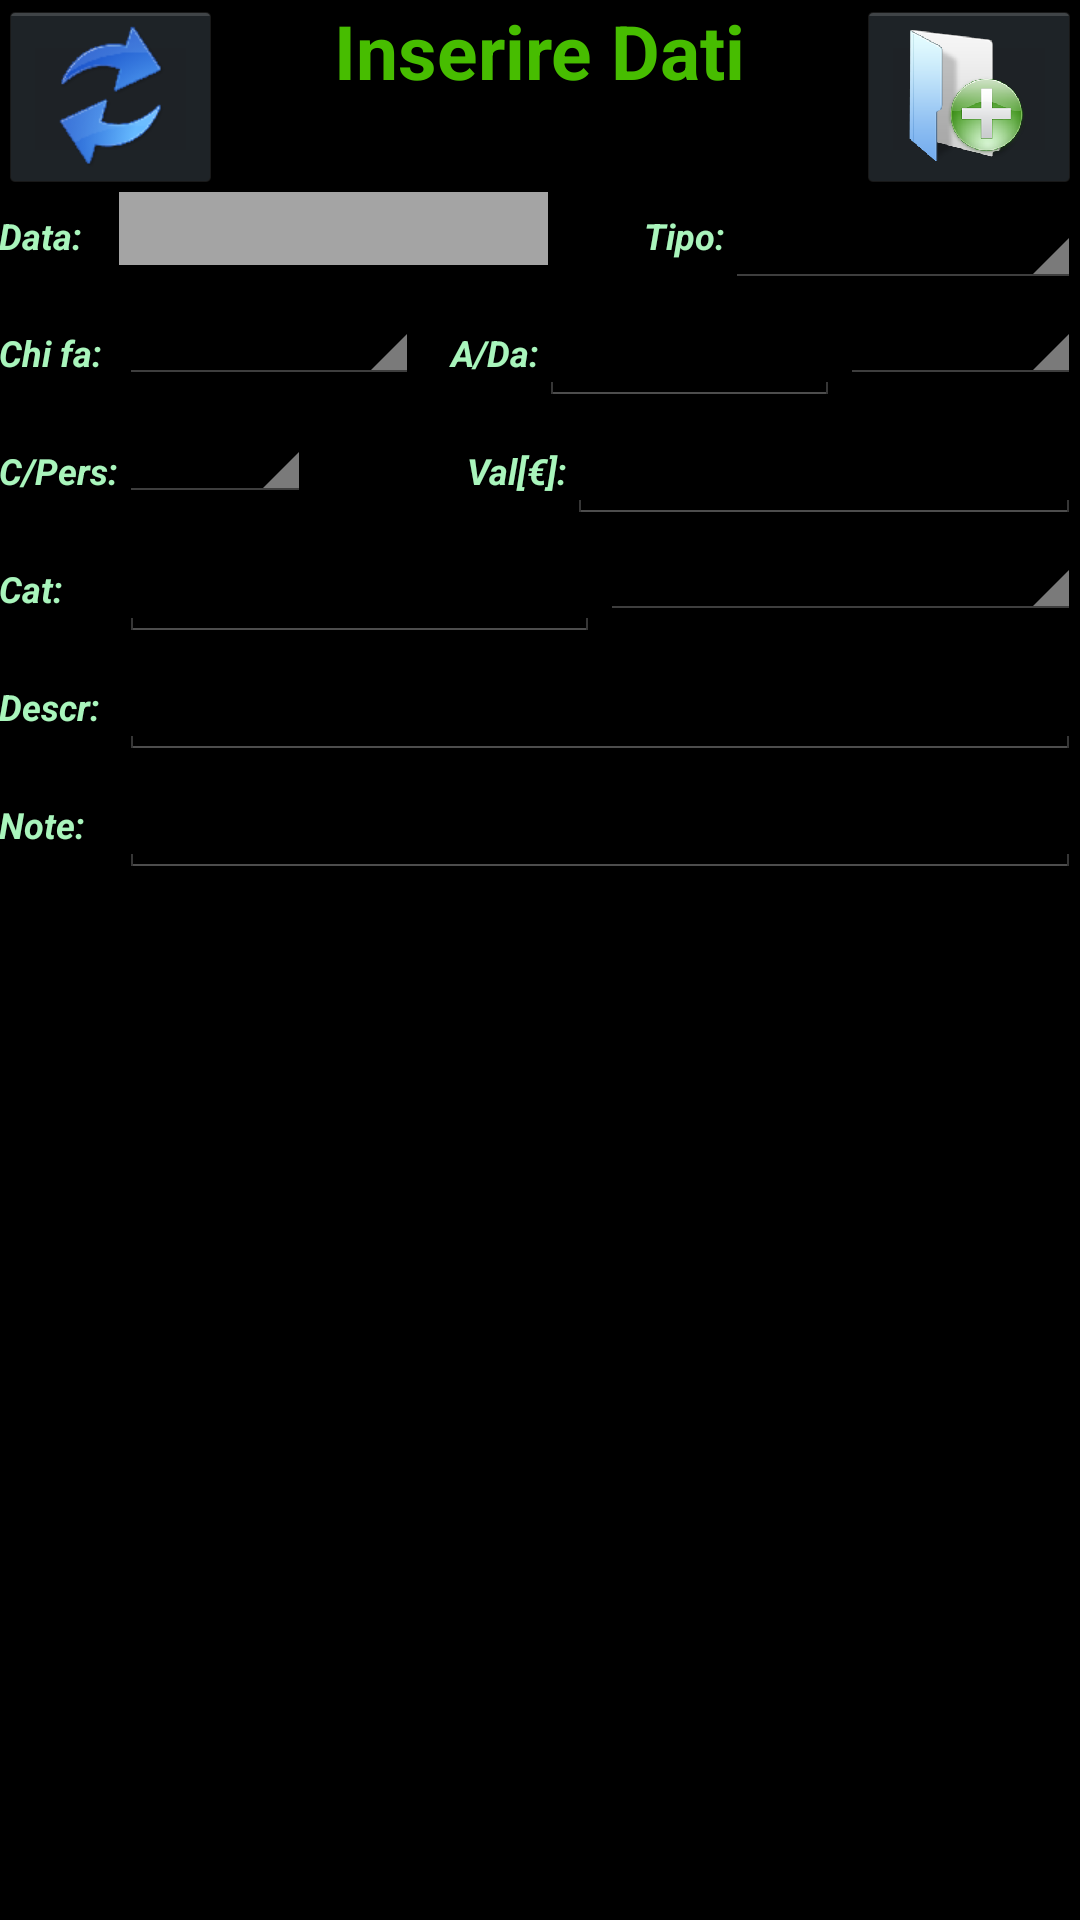

Named icons in this screenshot (1080*1920) and their centers, (x=x, y=y):
add: (x=969, y=97)
refresh: (x=110, y=97)
